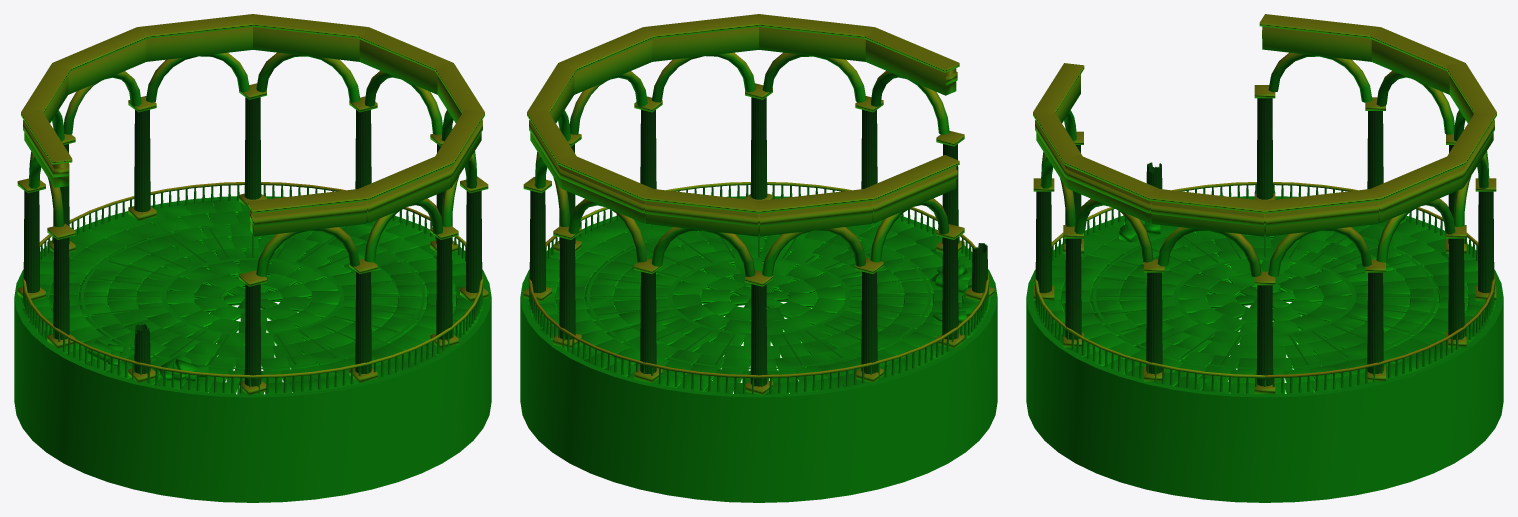
The model's file is spire_crown_floor.glb.
The picture shows the model from 3 angles, left to right: view 1: azimuth 30°, elevation 25°; view 2: azimuth 150°, elevation 25°; view 3: azimuth 270°, elevation 25°; orthographic projection.
Visible parts, largest first — view 1: spire_crown_floor; view 2: spire_crown_floor; view 3: spire_crown_floor.
Part boxes in pixels (x1,y1,x2,y2): spire_crown_floor: [14, 14, 491, 502]; spire_crown_floor: [520, 14, 997, 502]; spire_crown_floor: [1026, 14, 1503, 502].
Size of what is drawn, in the model's own units: 24.6 by 16.51 by 24.6.
